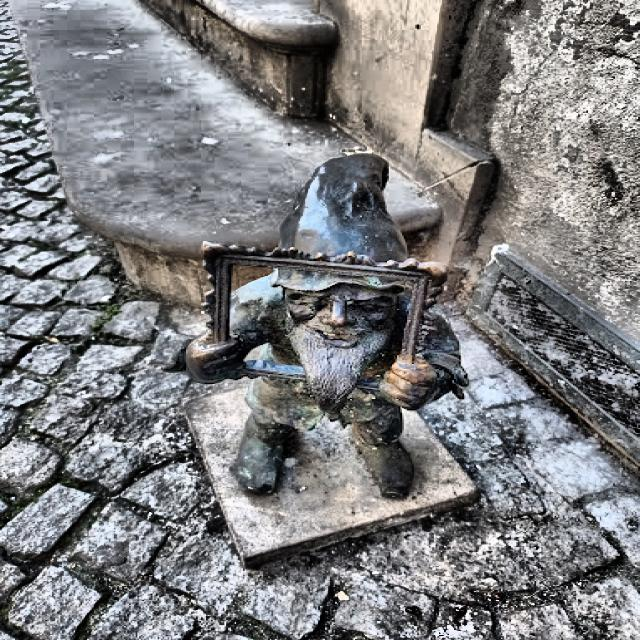Galeriusz: (185, 154, 469, 497)
